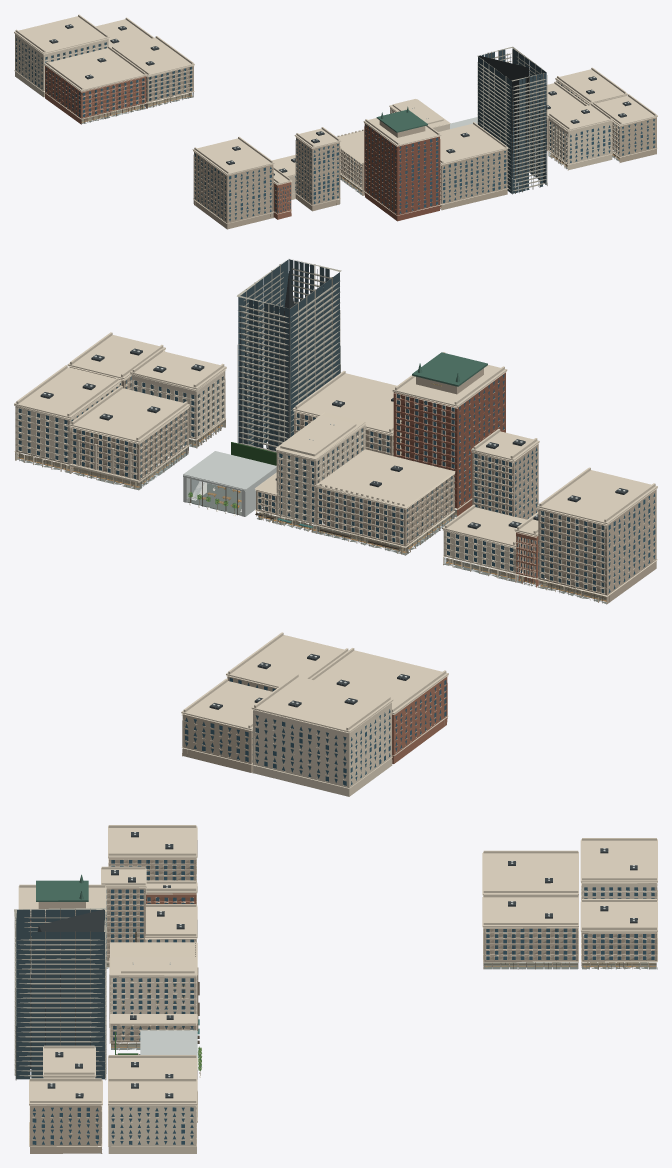
Rendered from north-square-lod.glb.
The picture shows the model from 3 angles, top to bottom: view 1: azimuth 30°, elevation 25°; view 2: azimuth 150°, elevation 25°; view 3: azimuth 270°, elevation 25°; orthographic projection. The views are drawn at different scales.
Parts seen in each view (by area): view 1: Grand Hyatt / Hyatt smoked bronze glass, Beacon Grand / Beacon terracotta brick, Grand Hyatt / Hyatt precast concrete, Kensington Park / honed limestone, Handlery rear wing / carved warm stone, Handlery Union Square / carved warm stone, Taj Campton Place / carved warm stone, Sutter service block / honed limestone, Handlery Union Square / Handlery brick, Chancellor Hotel / honed limestone, Elkan Gunst Building / carved warm stone, Sutter service block / carved warm stone (+25 smaller); view 2: Handlery rear wing / carved warm stone, Grand Hyatt / Hyatt smoked bronze glass, Grand Hyatt / Hyatt precast concrete, Kensington Park / honed limestone, Saks Fifth Avenue / carved warm stone, Beacon Grand / Beacon terracotta brick, 278 Post corner / carved warm stone, Tiffany & Co. / carved warm stone, Kensington Park / carved warm stone, Post Street east return / carved warm stone, Taj Campton Place / carved warm stone, Saks Fifth Avenue / honed limestone (+26 smaller); view 3: Grand Hyatt / Hyatt smoked bronze glass, Post Street east return / carved warm stone, Grand Hyatt / Hyatt precast concrete, Tiffany & Co. / carved warm stone, Handlery rear wing / carved warm stone, Handlery Union Square / carved warm stone, Elkan Gunst Building / carved warm stone, Kensington Park / carved warm stone, Campton Place east wing / honed limestone, Powell O Farrell corner / carved warm stone, Elkan Gunst Building / honed limestone, Campton Place east wing / carved warm stone (+25 smaller).
Part boxes in pixels (box(x1,y1,x2,y2)): Grand Hyatt / Hyatt smoked bronze glass: box(478, 49, 546, 193); Beacon Grand / Beacon terracotta brick: box(364, 123, 440, 221); Grand Hyatt / Hyatt precast concrete: box(477, 46, 547, 194); Kensington Park / honed limestone: box(193, 152, 273, 229); Handlery rear wing / carved warm stone: box(14, 14, 109, 97); Handlery Union Square / carved warm stone: box(44, 46, 147, 121); Taj Campton Place / carved warm stone: box(547, 103, 612, 170); Sutter service block / honed limestone: box(440, 149, 507, 210); Handlery Union Square / Handlery brick: box(45, 66, 146, 124); Chancellor Hotel / honed limestone: box(295, 137, 340, 211); Elkan Gunst Building / carved warm stone: box(112, 36, 194, 105); Sutter service block / carved warm stone: box(438, 122, 508, 204); Handlery rear wing / carved warm stone: box(251, 674, 393, 796); Grand Hyatt / Hyatt smoked bronze glass: box(238, 259, 340, 451); Grand Hyatt / Hyatt precast concrete: box(237, 259, 341, 452); Kensington Park / honed limestone: box(537, 489, 656, 603); Saks Fifth Avenue / carved warm stone: box(315, 449, 455, 551); Beacon Grand / Beacon terracotta brick: box(393, 372, 505, 516); 278 Post corner / carved warm stone: box(69, 385, 189, 486); Tiffany & Co. / carved warm stone: box(275, 412, 365, 533); Kensington Park / carved warm stone: box(537, 467, 657, 600); Post Street east return / carved warm stone: box(14, 365, 121, 473); Taj Campton Place / carved warm stone: box(130, 349, 226, 448); Saks Fifth Avenue / honed limestone: box(316, 449, 454, 555); Grand Hyatt / Hyatt smoked bronze glass: box(16, 909, 104, 1079); Post Street east return / carved warm stone: box(108, 1078, 197, 1153); Grand Hyatt / Hyatt precast concrete: box(14, 908, 106, 1080); Tiffany & Co. / carved warm stone: box(109, 956, 197, 1032); Handlery rear wing / carved warm stone: box(580, 838, 657, 900); Handlery Union Square / carved warm stone: box(482, 850, 578, 931); Elkan Gunst Building / carved warm stone: box(482, 894, 578, 966); Kensington Park / carved warm stone: box(108, 825, 197, 904); Campton Place east wing / honed limestone: box(30, 1105, 102, 1153); Powell O Farrell corner / carved warm stone: box(580, 899, 657, 966); Elkan Gunst Building / honed limestone: box(483, 927, 578, 969); Campton Place east wing / carved warm stone: box(29, 1078, 102, 1146).
Bounding box in the file's own units: 347 × 94 × 368.
